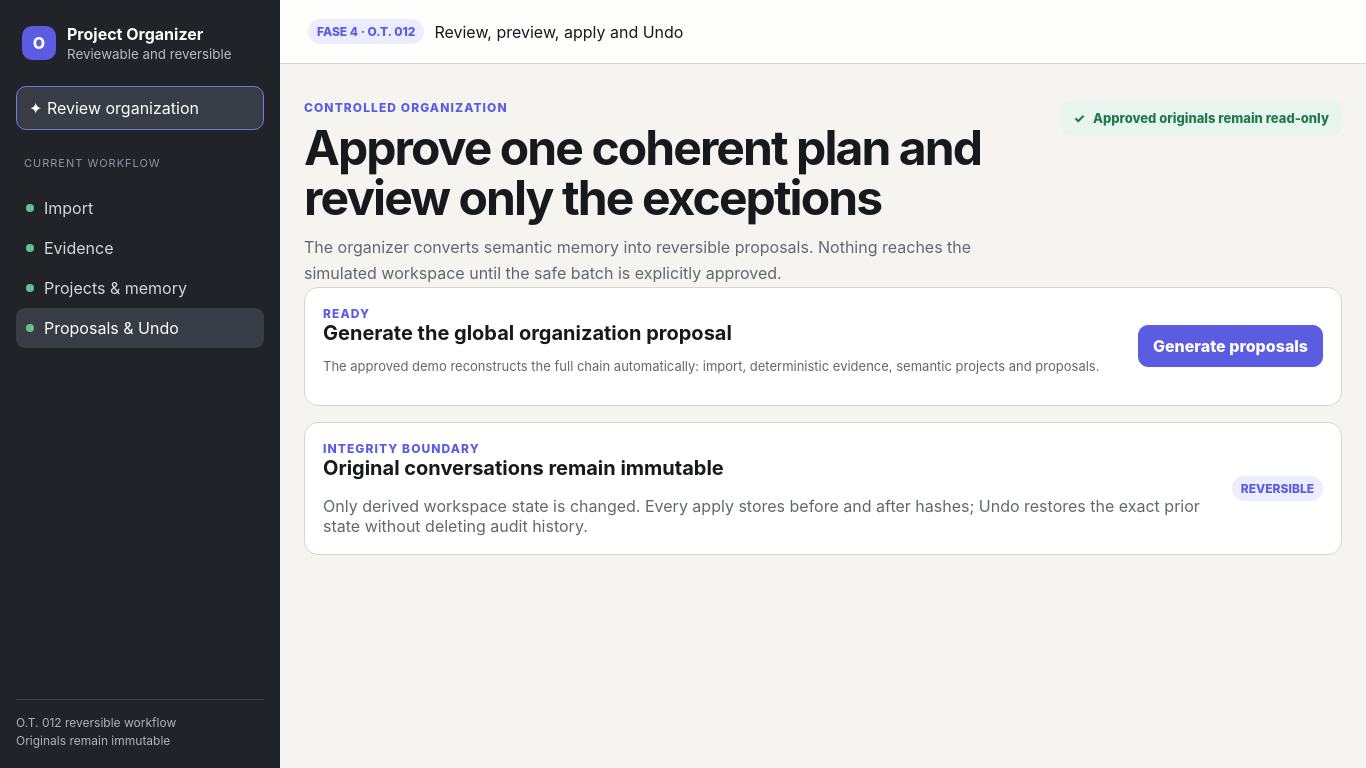
Test: O.T. 012 workflow › generates and explicitly approves safe proposals
The width and height of the screenshot is (1366, 768).
Click the button "Generate proposals".
click(1230, 346)  # box [1138, 325, 1323, 367]
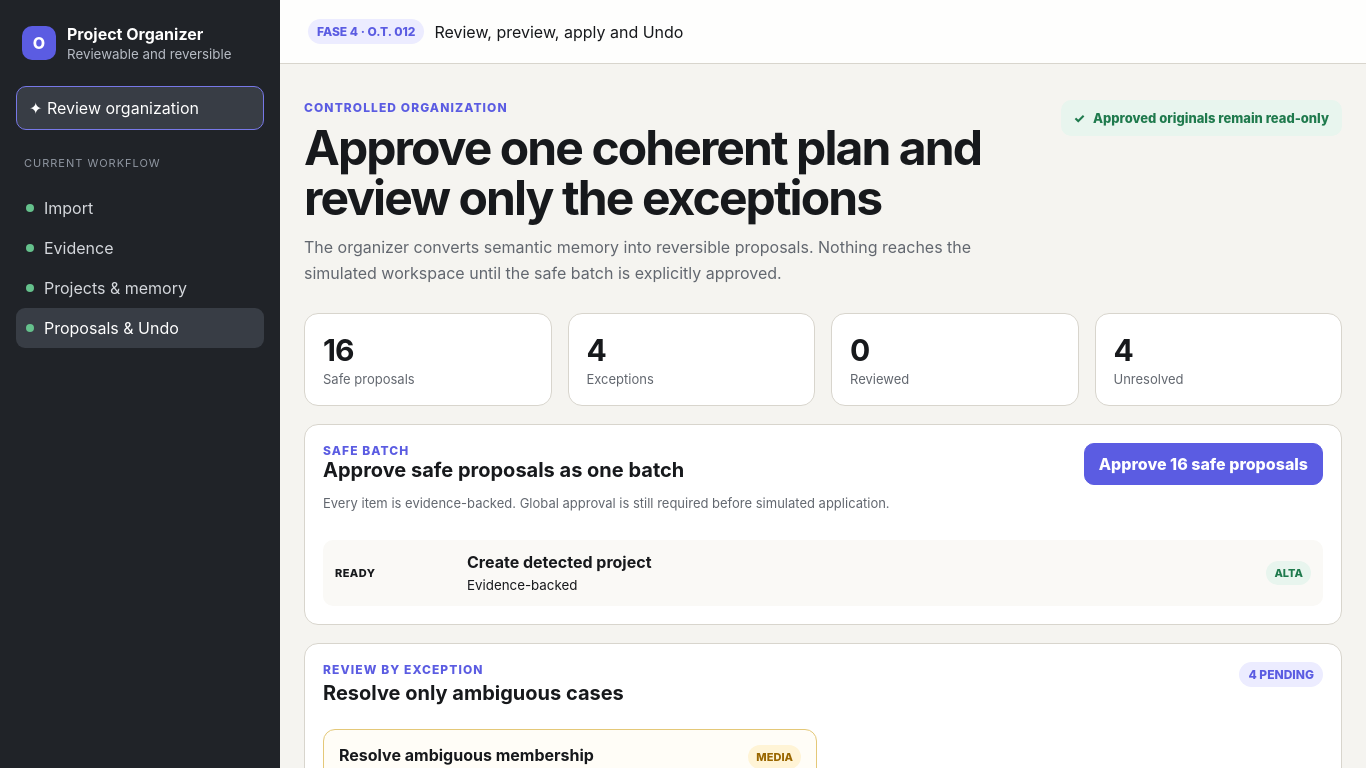
Expected: the heading "Approve safe proposals as one batch" is shown, [323, 458, 684, 482]
Click the button "Approve 16 safe proposals".
click(1203, 464)  # box [1084, 443, 1323, 485]
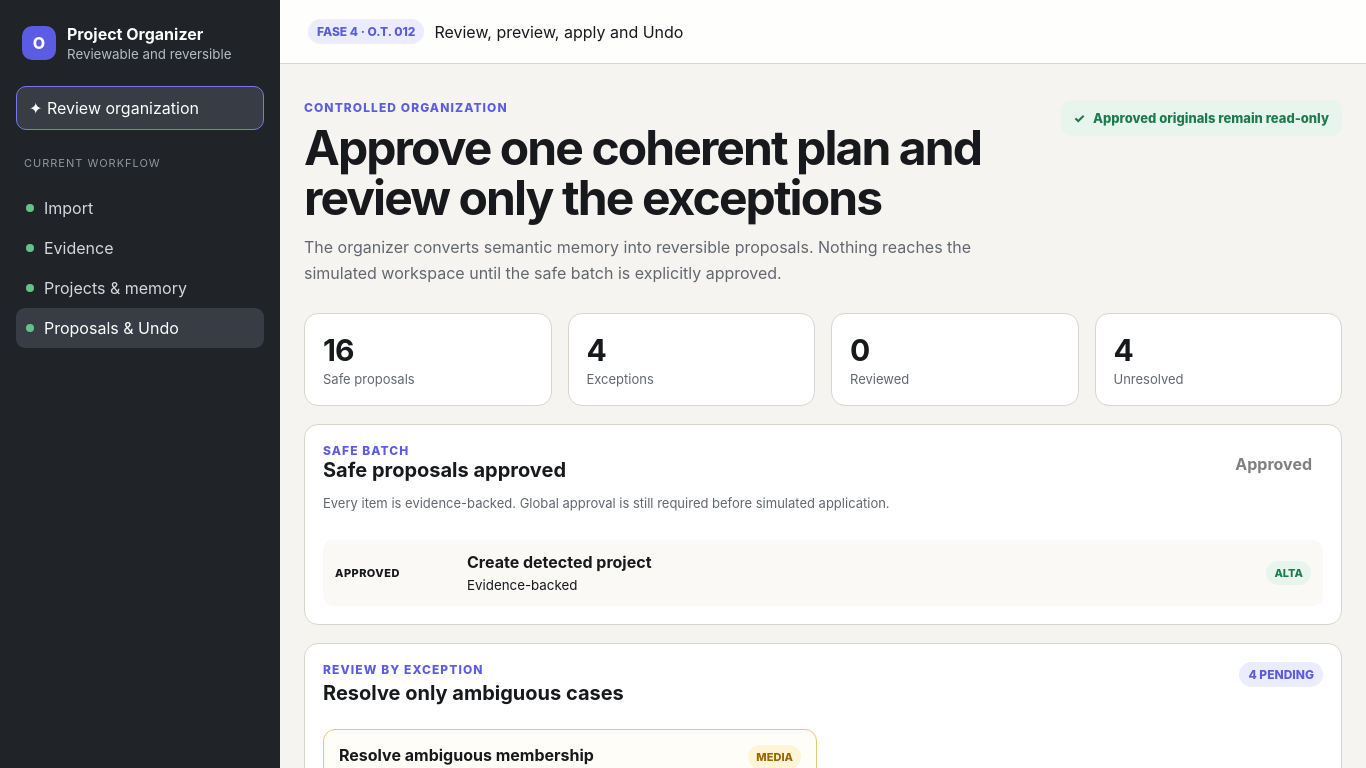
Expected: the heading "Safe proposals approved" is shown, [323, 458, 566, 482]
